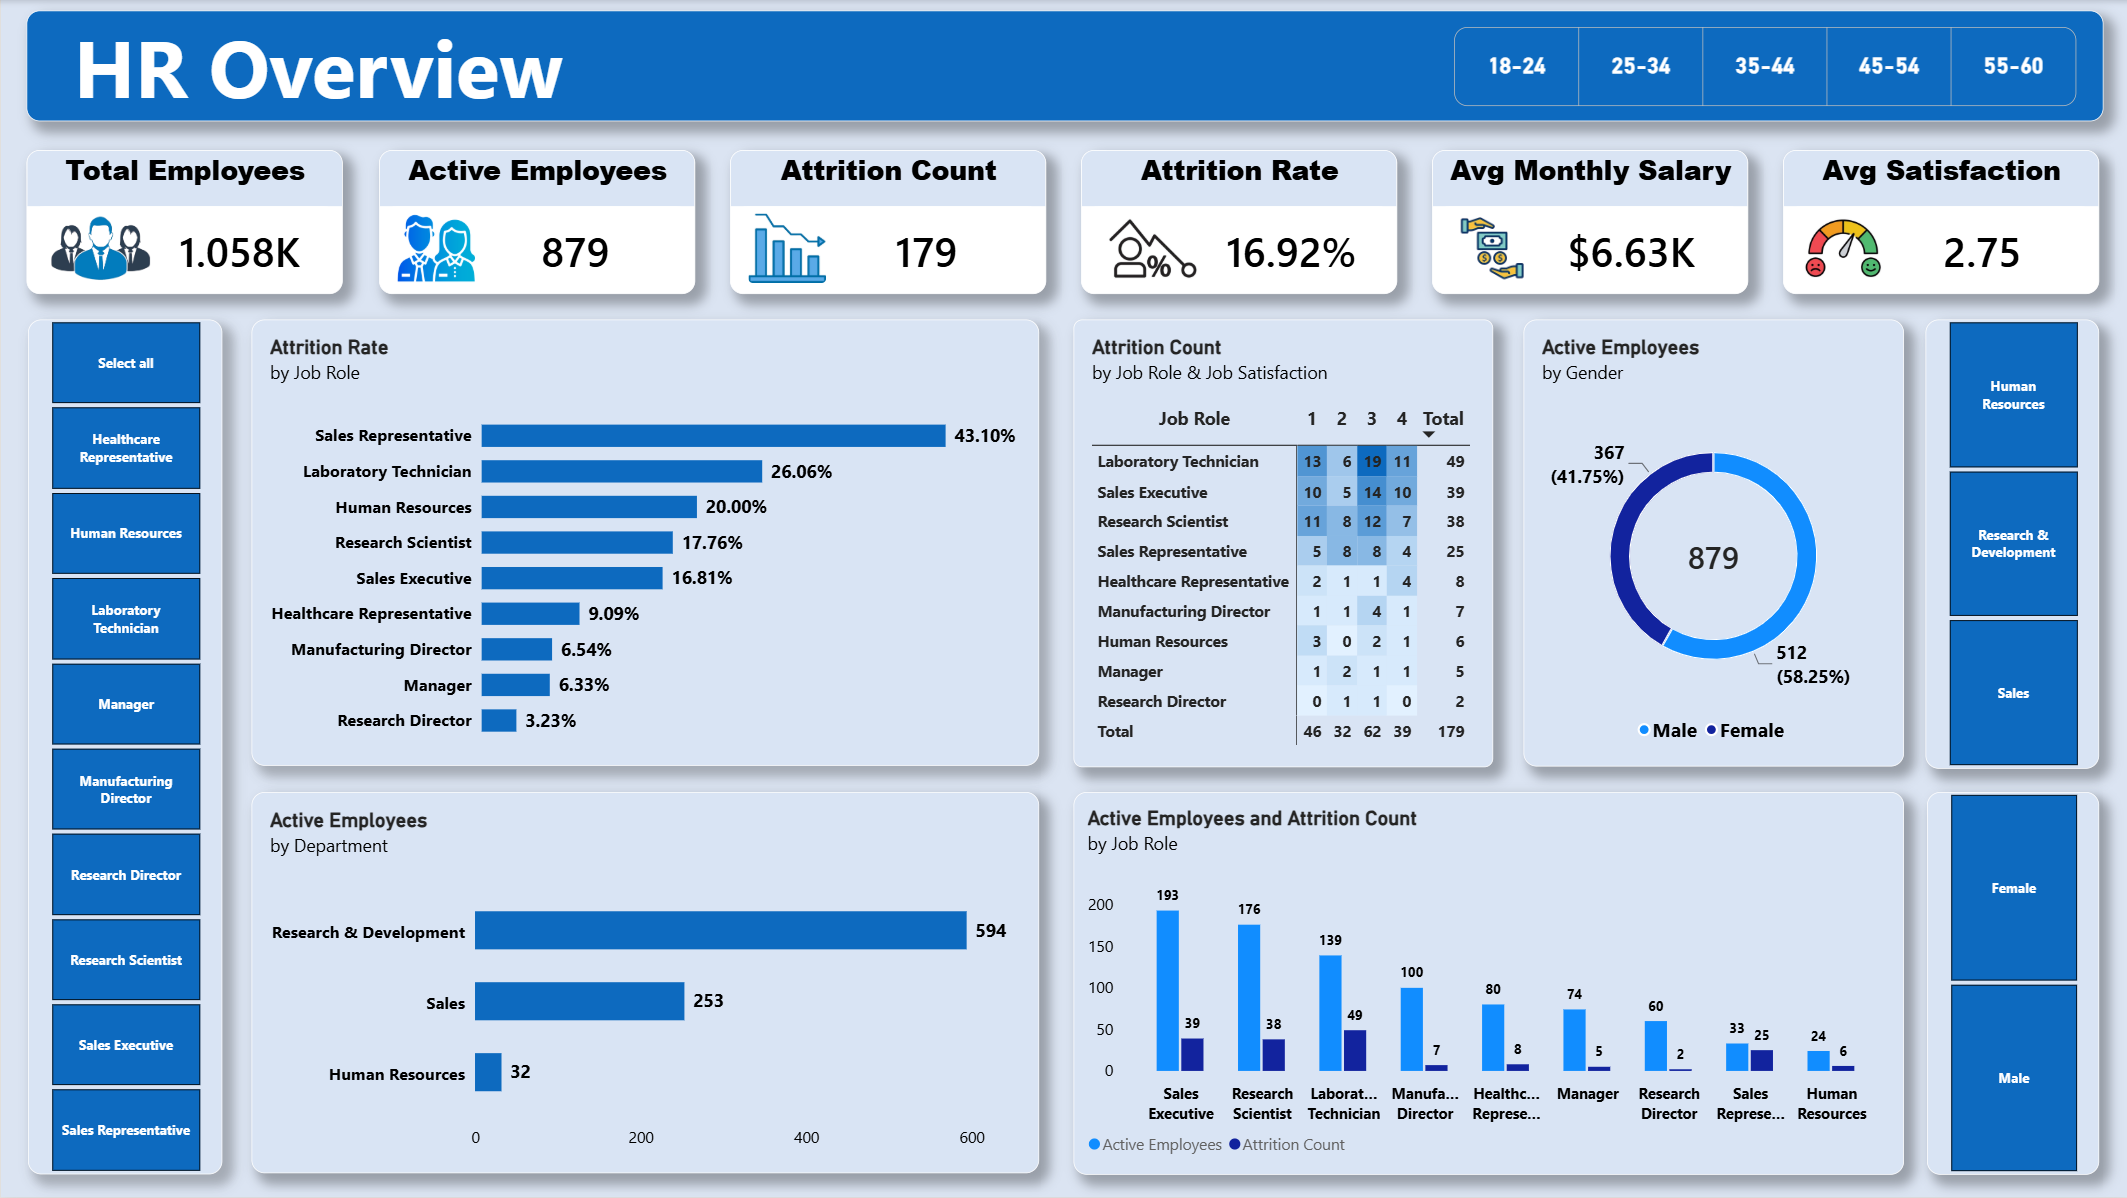

The page's visual inventory and layout, read from the dashboard file:
{"tool":"powerbi","page":{"name":"HR Overview","canvas":[1920,1080],"ordinal":0},"visuals":[{"type":"cardVisual","title":"Total Employees","fields":{"Data":["IBM Employee Dataset.Total Employee"]},"box":[22.9,135.7,285,130],"z":0},{"type":"cardVisual","title":"Active Employees","fields":{"Data":["IBM Employee Dataset.Active Employees"]},"box":[341,135.8,285,130],"z":1000},{"type":"barChart","fields":{"Category":["IBM Employee Dataset.Department"],"Y":["IBM Employee Dataset.Active Employees"]},"box":[226.3,715.1,710.6,344],"z":2000},{"type":"clusteredColumnChart","fields":{"Category":["IBM Employee Dataset.Job Role"],"Y":["IBM Employee Dataset.Active Employees","IBM Employee Dataset.Attrition Count"]},"box":[967,715,749,345],"z":3000},{"type":"slicer","fields":{"Values":["IBM Employee Dataset.Job Role"]},"box":[23.8,288.8,175,771.2],"z":4000},{"type":"donutChart","fields":{"Category":["IBM Employee Dataset.Gender"],"Y":["IBM Employee Dataset.Active Employees"]},"box":[1373.3,288.3,343.3,403.3],"z":5000},{"type":"cardVisual","title":"Avg Monthly Salary","fields":{"Data":["IBM Employee Dataset.Average Salary"]},"box":[1291.4,135.8,285,130],"z":6000},{"type":"cardVisual","title":"Attrition Count","fields":{"Data":["IBM Employee Dataset.Unactive Employee"]},"box":[657.8,135.8,285,130],"z":7000},{"type":"textbox","box":[22.9,10,1874.3,100],"z":8000},{"type":"cardVisual","title":"Attrition Rate","fields":{"Data":["IBM Employee Dataset.Attrition Rate"]},"box":[974.6,135.8,285,130],"z":9000},{"type":"cardVisual","title":"Avg Satisfaction","fields":{"Data":["IBM Employee Dataset.Avg Satisfaction"]},"box":[1608.2,135.8,285,130],"z":10000},{"type":"barChart","fields":{"Category":["IBM Employee Dataset.Job Role"],"Y":["IBM Employee Dataset.Attrition Rate"]},"box":[226.3,288.2,710.6,402.8],"z":11000},{"type":"pivotTable","title":"Attrition Count ","fields":{"Columns":["IBM Employee Dataset.Job Satisfaction"],"Rows":["IBM Employee Dataset.Job Role"],"Values":["IBM Employee Dataset.Attrition Count Display"]},"box":[967,288,378.7,404.3],"z":12000},{"type":"advancedSlicerVisual","fields":{"Values":["IBM Employee Dataset.Age Group"]},"box":[1291.7,24.8,604,71.4],"z":13000},{"type":"slicer","fields":{"Values":["IBM Employee Dataset.Department"]},"box":[1736.7,288.3,156.7,405],"z":14000},{"type":"slicer","fields":{"Values":["IBM Employee Dataset.Gender"]},"box":[1738.3,715,155,345],"z":15000}]}

Visuals, with their boxes in screenshot pixels (x1, y1, x2, y2), scaled from the page's 1920x1080 canvas onto the 2127x1198 screenshot:
"Total Employees" cardVisual: <region>25, 151, 341, 295</region>
"Active Employees" cardVisual: <region>378, 151, 693, 295</region>
barChart - IBM Employee Dataset.Department x IBM Employee Dataset.Active Employees: <region>251, 793, 1038, 1175</region>
clusteredColumnChart - IBM Employee Dataset.Job Role x IBM Employee Dataset.Active Employees: <region>1071, 793, 1901, 1176</region>
slicer - IBM Employee Dataset.Job Role: <region>26, 320, 220, 1176</region>
donutChart - IBM Employee Dataset.Gender x IBM Employee Dataset.Active Employees: <region>1521, 320, 1902, 767</region>
"Avg Monthly Salary" cardVisual: <region>1431, 151, 1746, 295</region>
"Attrition Count" cardVisual: <region>729, 151, 1044, 295</region>
textbox: <region>25, 11, 2102, 122</region>
"Attrition Rate" cardVisual: <region>1080, 151, 1395, 295</region>
"Avg Satisfaction" cardVisual: <region>1782, 151, 2097, 295</region>
barChart - IBM Employee Dataset.Job Role x IBM Employee Dataset.Attrition Rate: <region>251, 320, 1038, 766</region>
"Attrition Count " pivotTable: <region>1071, 319, 1491, 768</region>
advancedSlicerVisual - IBM Employee Dataset.Age Group: <region>1431, 28, 2100, 107</region>
slicer - IBM Employee Dataset.Department: <region>1924, 320, 2098, 769</region>
slicer - IBM Employee Dataset.Gender: <region>1926, 793, 2097, 1176</region>
